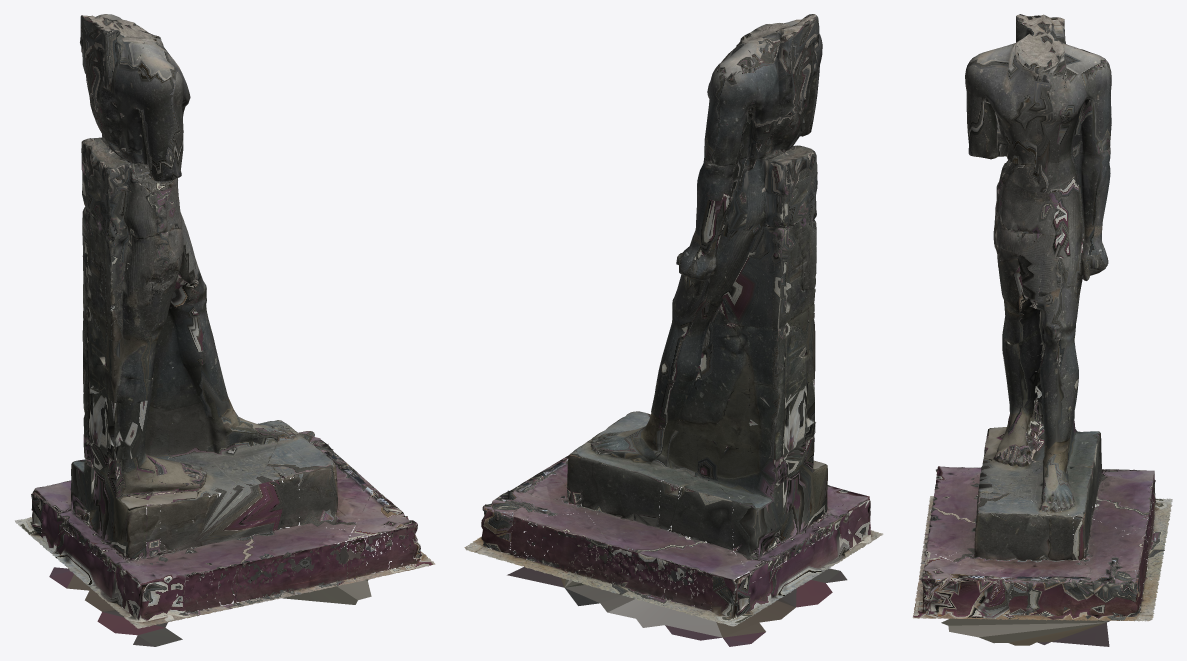
Rendered from estatua-tanwetamani.glb.
3 renders of one model, left to right at view 1: azimuth 30°, elevation 25°; view 2: azimuth 150°, elevation 25°; view 3: azimuth 270°, elevation 25°, orthographic. The views are drawn at different scales.
Visible parts, largest first — view 1: Object_6, Object_14, Object_18, Object_25, Object_2, Object_37, Object_30, Object_42; view 2: Object_30, Object_37, Object_25, Object_6, Object_18, Object_14, Object_2, Object_42; view 3: Object_18, Object_30, Object_2, Object_6, Object_14, Object_25, Object_37, Object_42.
Boxes of the visible parts, x1,y1,x2,y2 form: Object_6: [80, 15, 352, 646]; Object_14: [31, 232, 435, 635]; Object_18: [95, 14, 416, 596]; Object_25: [18, 120, 219, 628]; Object_2: [15, 254, 374, 604]; Object_37: [42, 246, 274, 579]; Object_30: [31, 173, 365, 551]; Object_42: [146, 287, 233, 427]; Object_30: [466, 163, 817, 615]; Object_37: [464, 257, 849, 583]; Object_25: [607, 115, 883, 646]; Object_6: [672, 14, 847, 607]; Object_18: [565, 19, 822, 612]; Object_14: [562, 242, 852, 643]; Object_2: [551, 245, 816, 626]; Object_42: [649, 379, 750, 451]; Object_18: [922, 45, 1129, 622]; Object_30: [993, 162, 1169, 646]; Object_2: [941, 256, 1172, 645]; Object_6: [919, 14, 1108, 582]; Object_14: [912, 248, 1122, 637]; Object_25: [926, 73, 1172, 568]; Object_37: [964, 253, 1158, 621]; Object_42: [1040, 325, 1069, 454].
Size of the model in its own units: 13.58 by 25.51 by 11.57.
8 materials, 8 textured.
